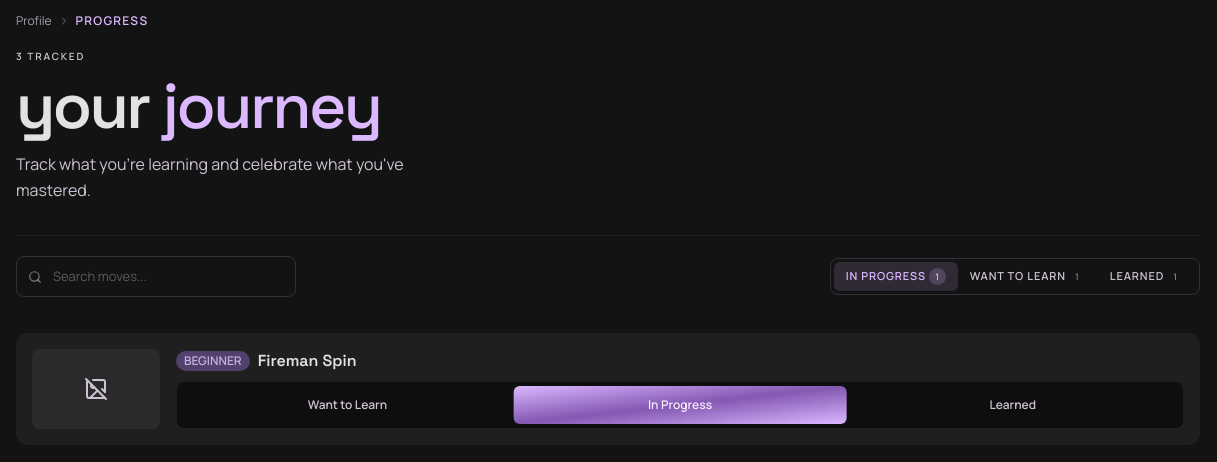
Test case: ProgressTracker › shows Learned moves after clicking that tab
The width and height of the screenshot is (1217, 462).
Click the tab "Learned 1" at (1147, 277), box left=1098, top=262, right=1196, bottom=291
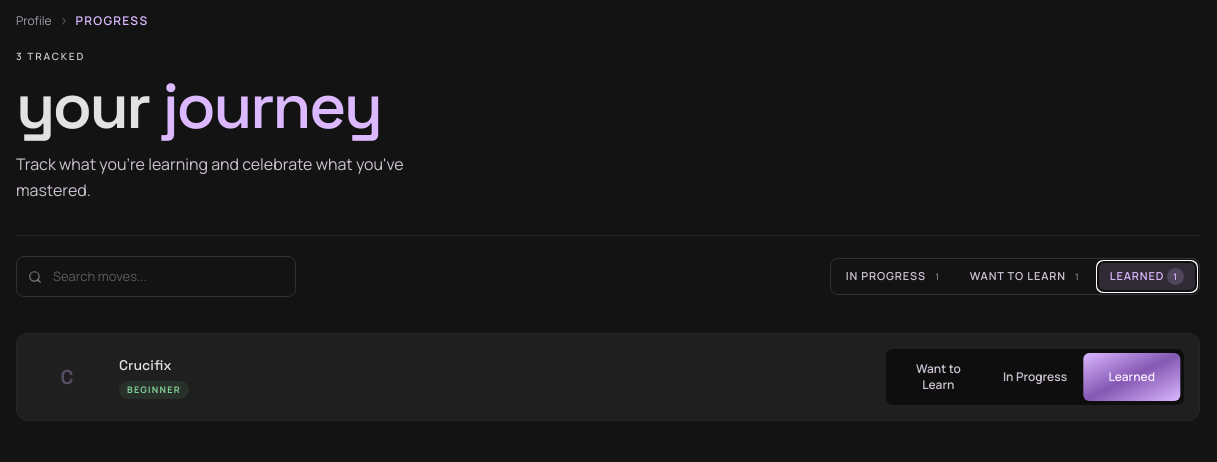
Expected: the text "Crucifix" is shown, left=119, top=356, right=172, bottom=374
Expected: the heading "Fireman Spin" is gone
